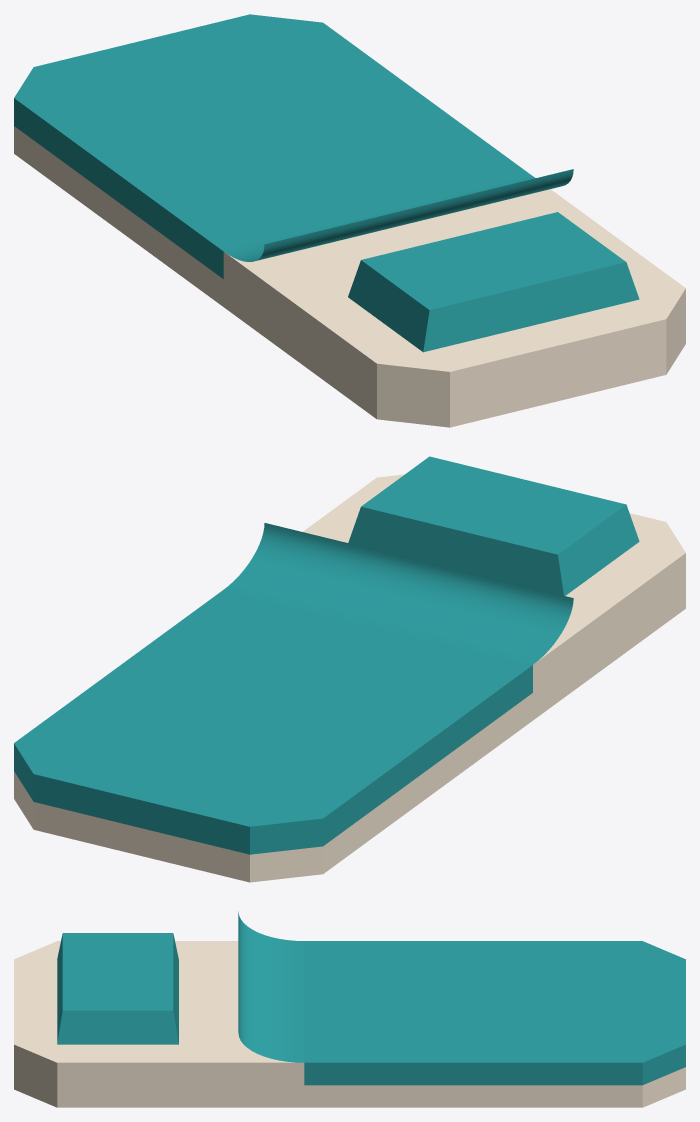
3 views of the same model, one above another, from view 1: azimuth 30°, elevation 25°; view 2: azimuth 150°, elevation 25°; view 3: azimuth 270°, elevation 25° (orthographic). The views are drawn at different scales.
Parts seen in each view (by area): view 1: bed_floor; view 2: bed_floor; view 3: bed_floor.
Boxes of the visible parts, left/top/right/bottom form: bed_floor: left=14, top=14, right=685, bottom=427; bed_floor: left=14, top=456, right=685, bottom=882; bed_floor: left=14, top=911, right=685, bottom=1107.
Size of the model in its own units: 0.3203 by 0.0921 by 0.7473.
